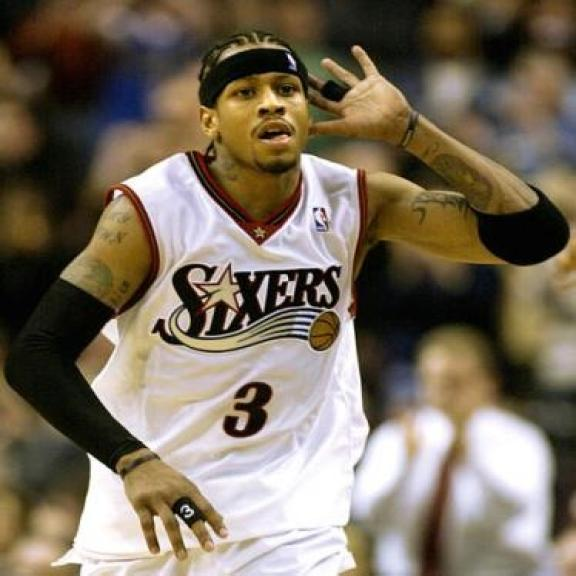face: (197, 70, 312, 177)
